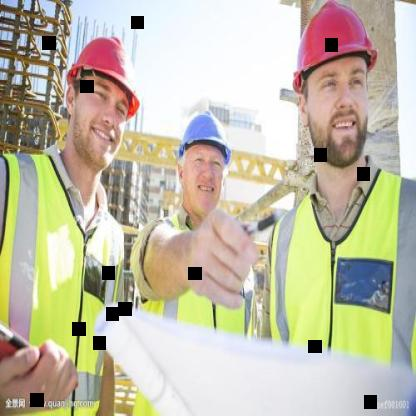helmet: (283, 1, 390, 173), (54, 25, 151, 176), (171, 95, 239, 222)
